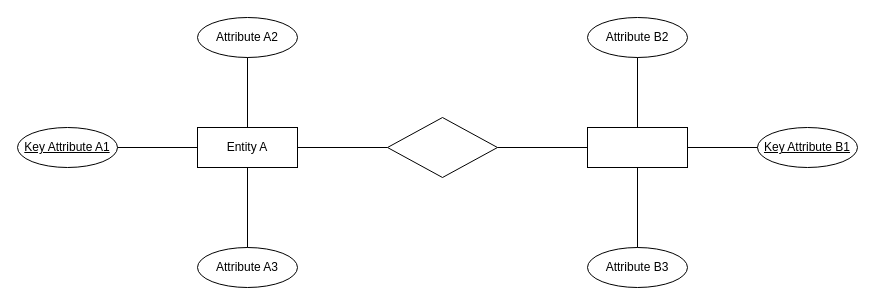
Image size: 875x305. Some labels were removed from this diagram. Each missing label, with the centre of its shape:
"Entity B" goes at point 637,147.
"Relationship R" goes at point 442,147.
